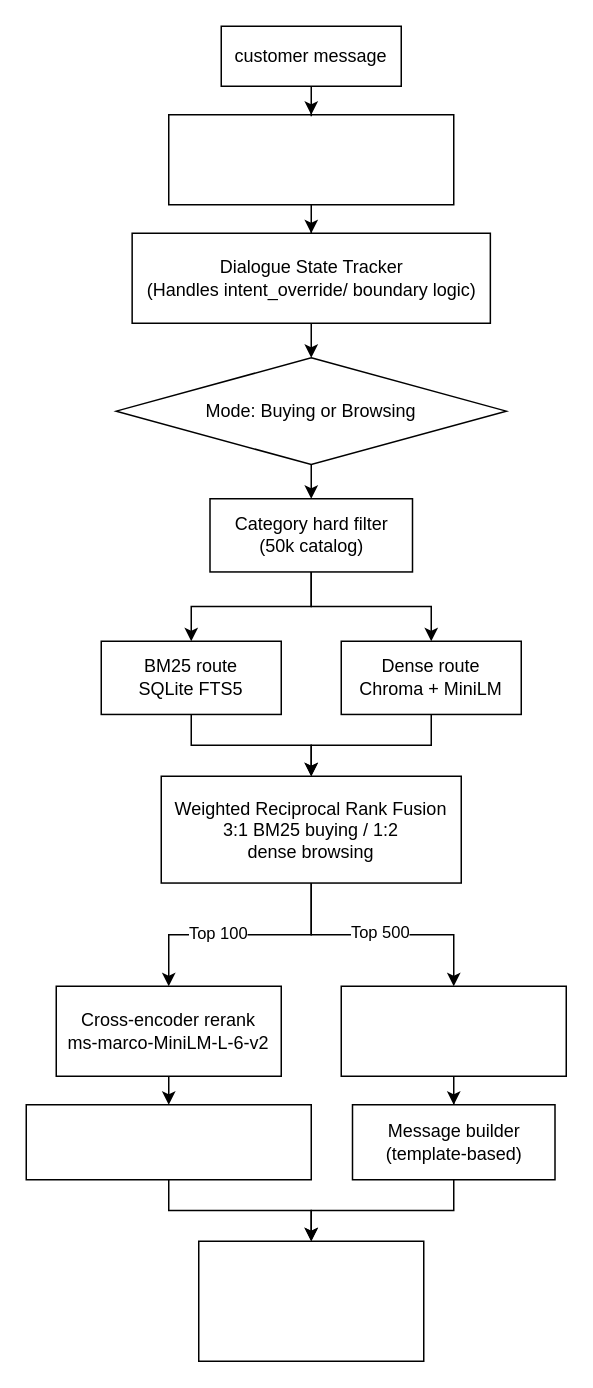
Image size: 593x1388. Some labels were removed from this diagram. The box of each missing label's shape, as (x1, y1, x2, y2) in pixels:
Entropy-based ask_attribute selection: (340, 985, 566, 1076)
LLM joint intent + slot extraction gemini-3.5-flash-lite: (167, 113, 454, 205)
Soft price adjustment (multiplicative exponential decay): (25, 1103, 311, 1180)
Turn Response: Top 10 ask_attribute attribute question: (197, 1240, 424, 1361)
